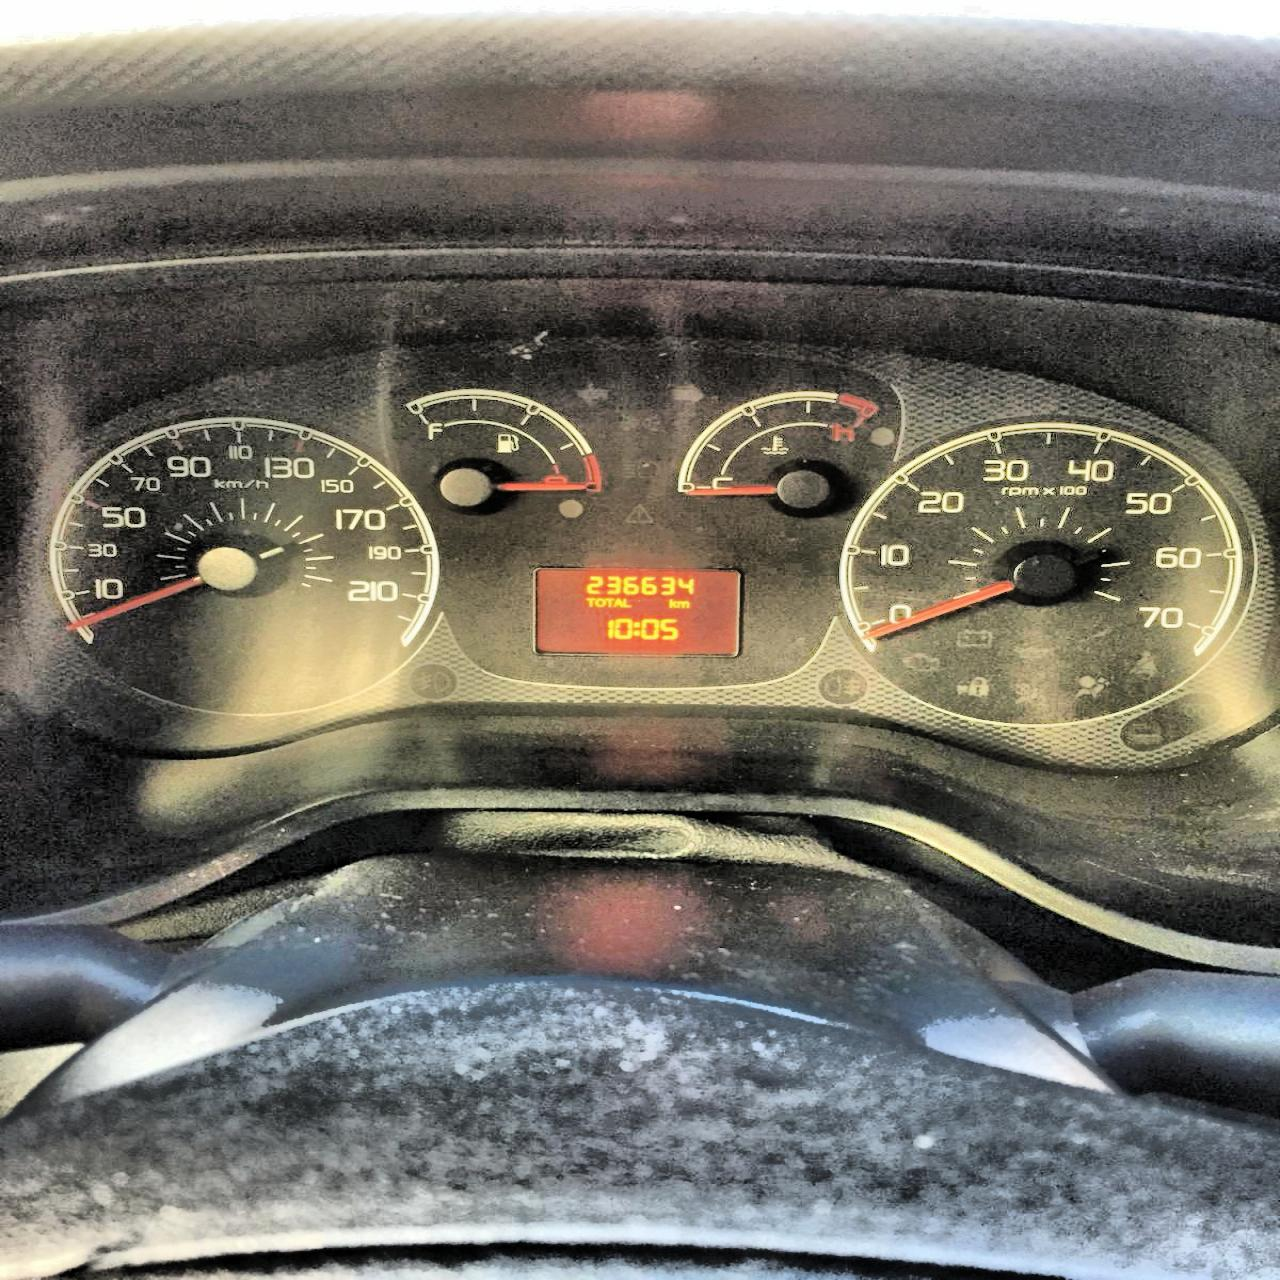0: (613, 617, 632, 639), (640, 617, 658, 640)
1: (607, 619, 613, 640)
2: (586, 573, 602, 595)
3: (605, 576, 622, 594), (659, 574, 674, 595)
4: (675, 576, 696, 595)
5: (660, 617, 679, 640)
6: (640, 576, 658, 595), (621, 576, 639, 594)
X: (632, 619, 640, 636), (676, 600, 692, 610), (605, 597, 615, 607), (594, 597, 605, 607), (585, 595, 594, 607), (621, 598, 632, 607), (667, 598, 676, 608), (614, 597, 622, 608)
odometer: (531, 566, 742, 659)
